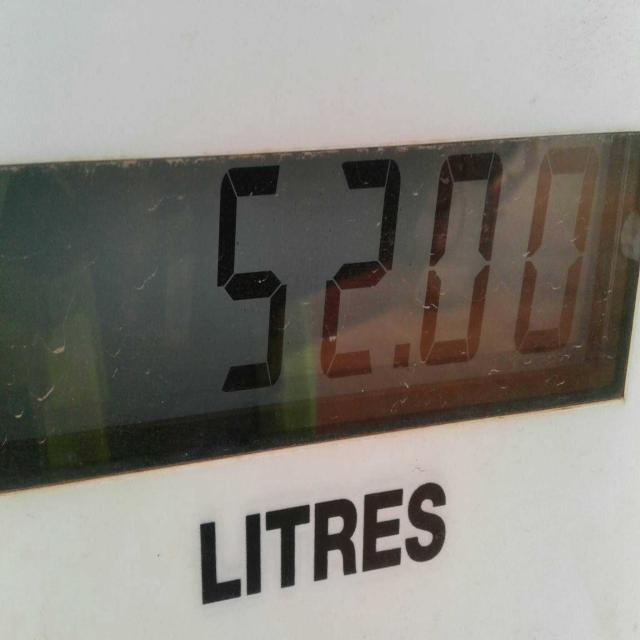.: (395, 342, 415, 372)
0: (517, 148, 596, 348), (420, 160, 498, 360)
2: (325, 164, 401, 371)
5: (217, 170, 288, 393)
